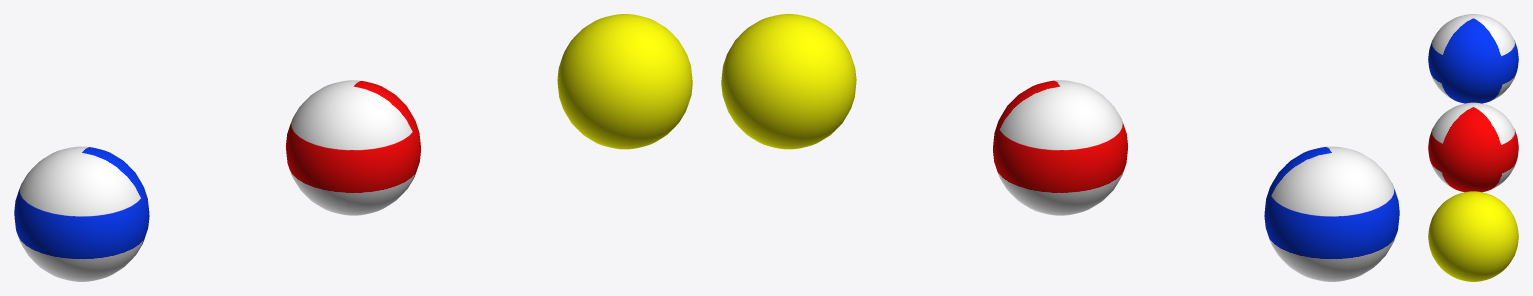
The model's file is testTextures.glb.
3 renders of one model, left to right at view 1: azimuth 30°, elevation 25°; view 2: azimuth 150°, elevation 25°; view 3: azimuth 270°, elevation 25°, orthographic. The views are drawn at different scales.
Parts seen in each view (by area): view 1: Sphere; view 2: Sphere; view 3: Sphere.
Part boxes in pixels (bbox=[...]): Sphere: bbox=[14, 14, 692, 281]; Sphere: bbox=[721, 14, 1399, 281]; Sphere: bbox=[1428, 14, 1518, 281].
Size of the model in its own units: 4.86 by 0.865 by 0.865.
3 materials, 2 textured.
